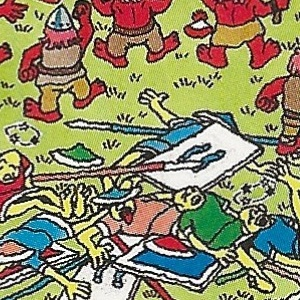Wenda: (138, 120, 162, 180)
